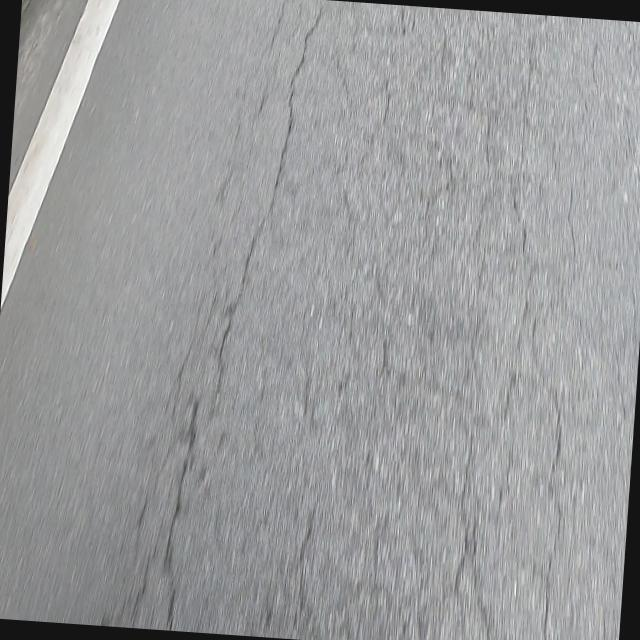Retak-Buaya: (294, 3, 566, 640)
Retak-Memanjang: (213, 9, 325, 419), (165, 403, 199, 628)
